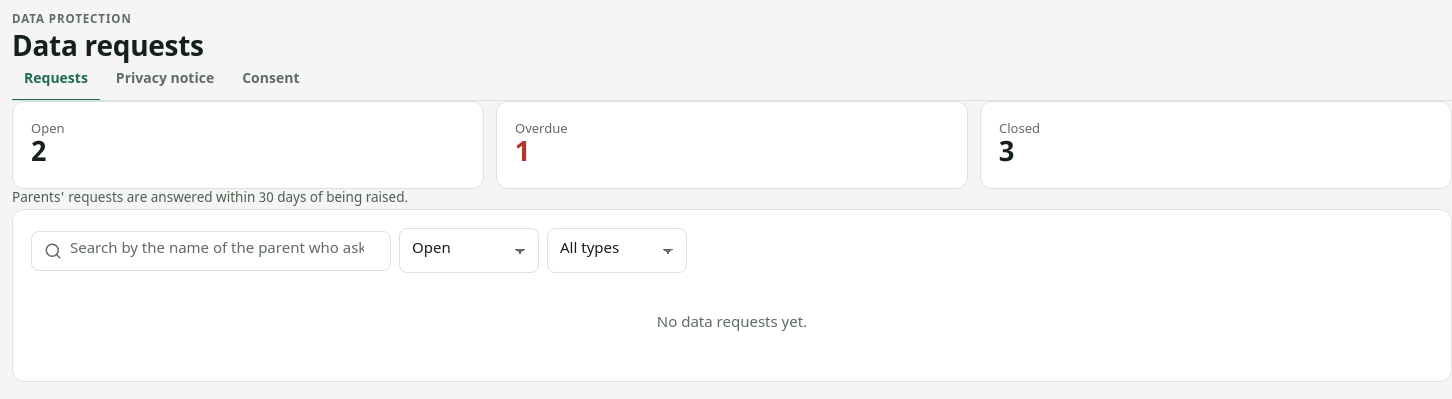
Scenario: RequestsView › filters by type
The width and height of the screenshot is (1452, 399).
Expected: the text "No data requests yet." is shown, x1=657 y1=314 x2=807 y2=333
Step 1. Select "Erasure" in the dropdown named "Type" → (617, 251), box x1=547 y1=228 x2=687 y2=273
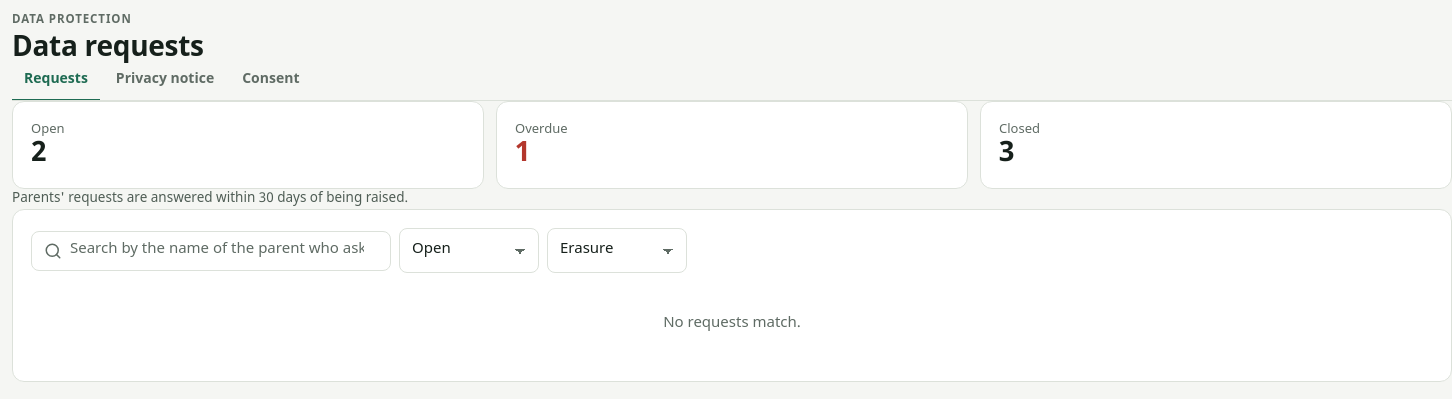
Now the text "No requests match." is shown, box x1=663 y1=314 x2=801 y2=333
